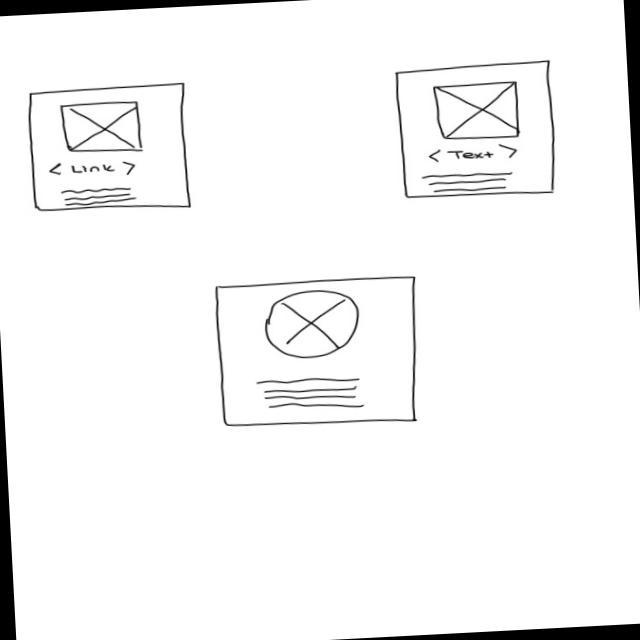container: (210, 272, 428, 434), (390, 57, 561, 202), (24, 80, 196, 218)
image: (263, 286, 363, 362), (432, 80, 525, 142), (58, 98, 146, 156)
link: (47, 157, 138, 180), (427, 142, 520, 164)
textbox: (254, 372, 368, 415), (421, 168, 515, 196), (59, 184, 138, 208)
